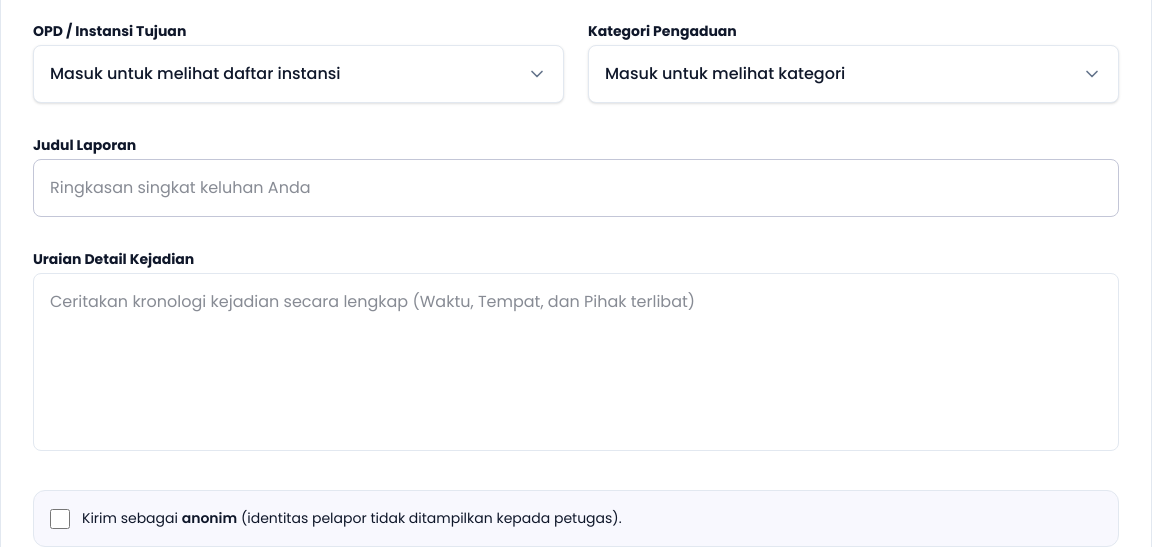
CreateComplaintForm — tanpa sesi › menekan Kirim tidak memanggil API, melainkan menyuruh masuk
The width and height of the screenshot is (1152, 547).
Expected: the text "Masuk untuk melihat daftar instansi" is shown, [50,62,340,86]
Type "Judul" into the field labelled "Judul Laporan" at (576,188), box [33,159,1119,217]
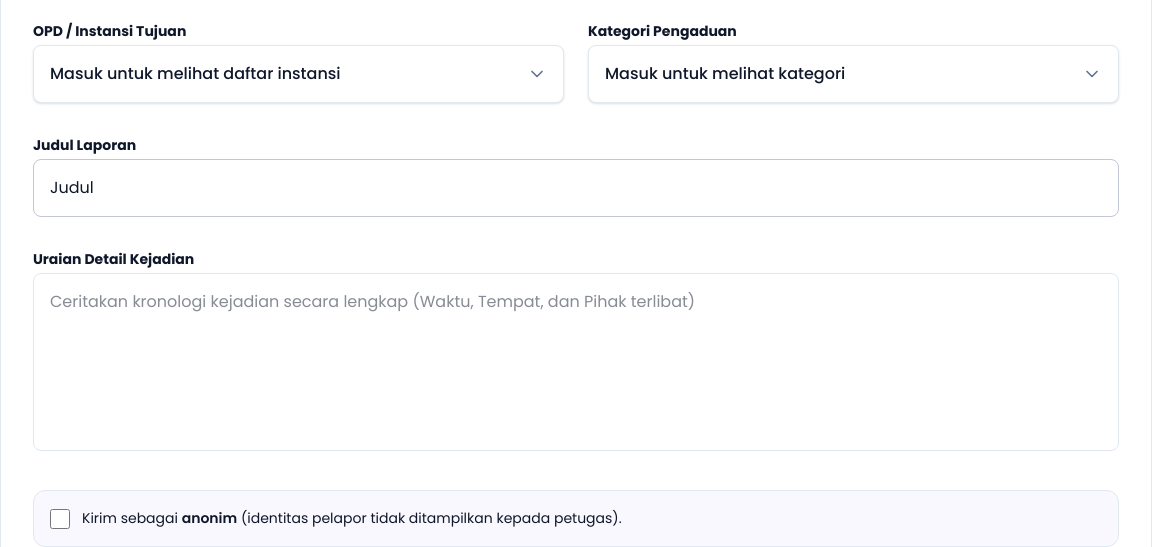
Replace the text in the text box labelled "Uraian Detail Kejadian" with "Uraian pengaduan yang cukup panjang" at (576,362), box [33,273,1119,451]
(page scrolled)
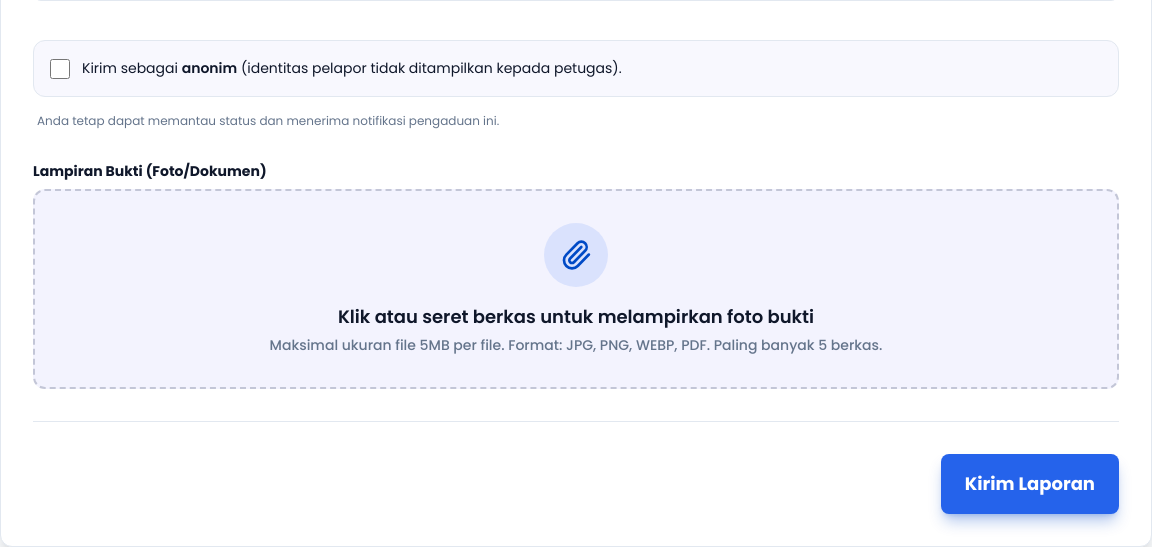
Click the button "Kirim Laporan" at (1030,484), box [941,454,1119,514]
(page scrolled)
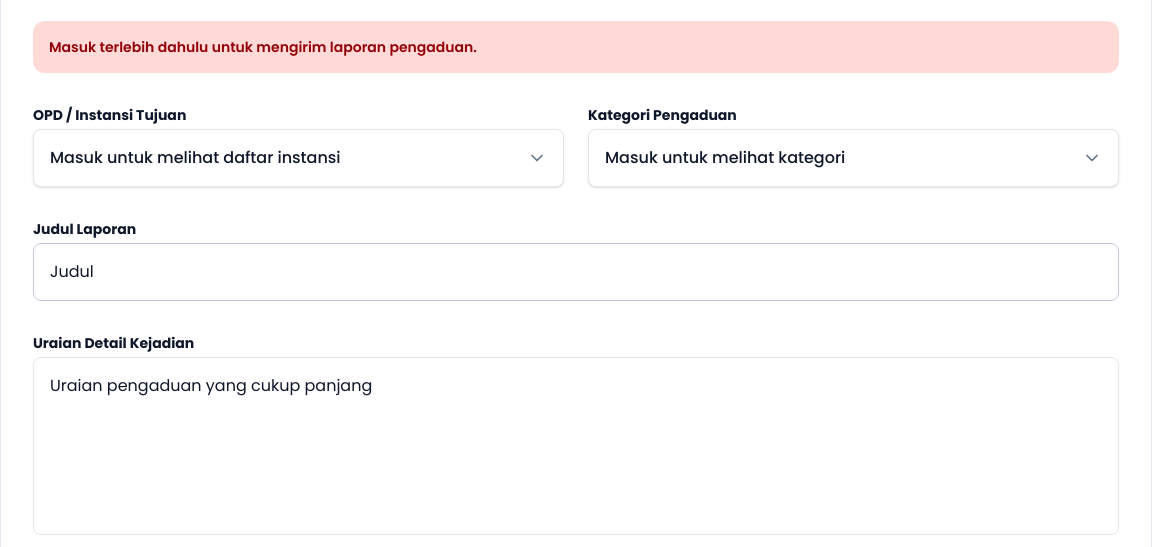
Expected: the text "Masuk terlebih dahulu untuk mengirim laporan pengaduan." is shown, [33,21,1119,73]
